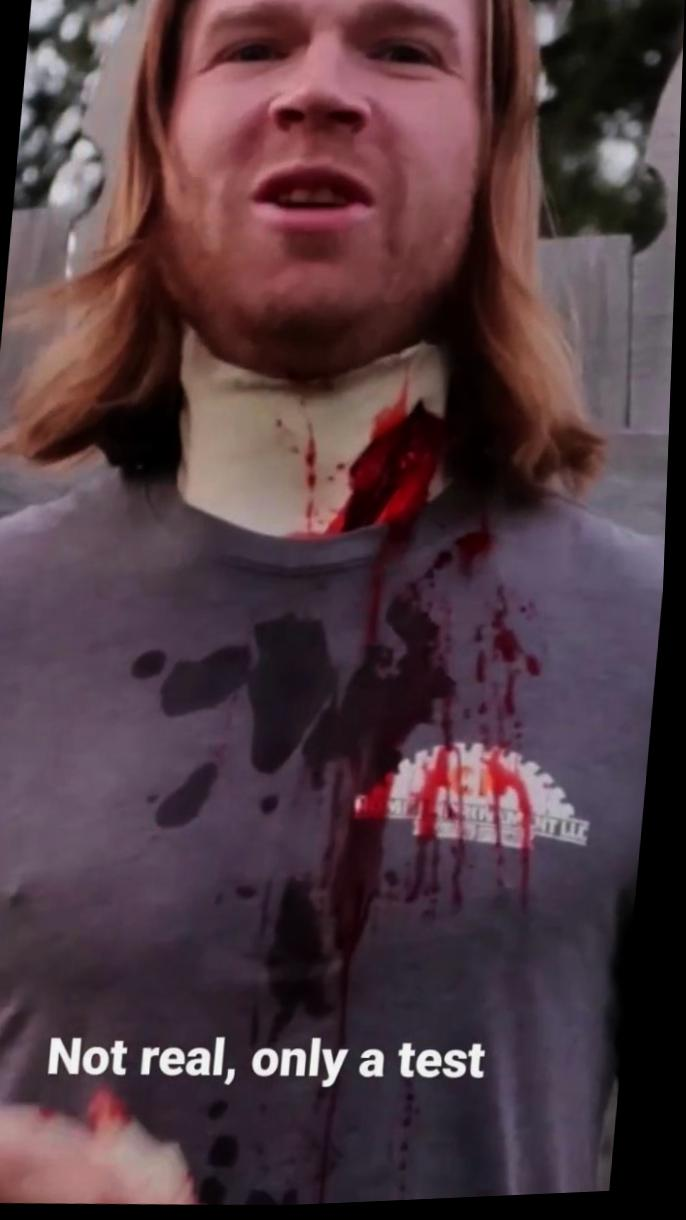Fire: (250, 380, 549, 1207)
